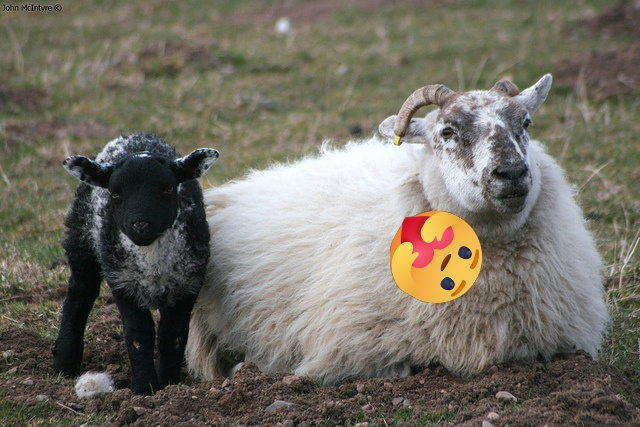care: (390, 211, 482, 303)
